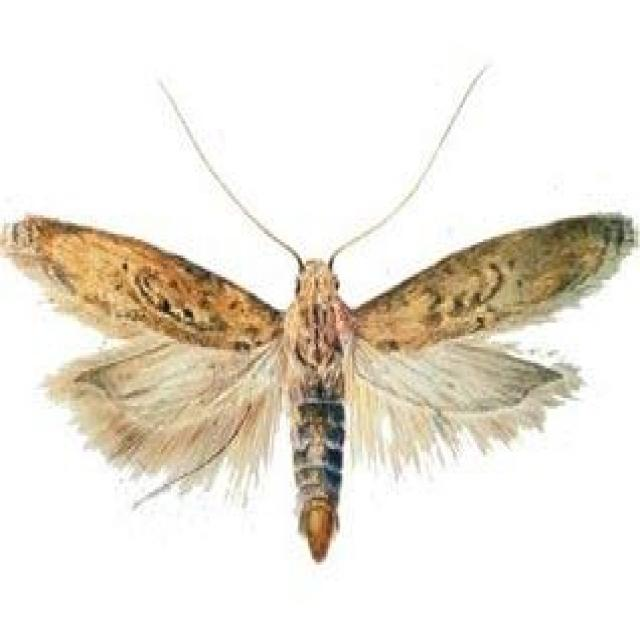armyworm: (33, 75, 625, 559)
